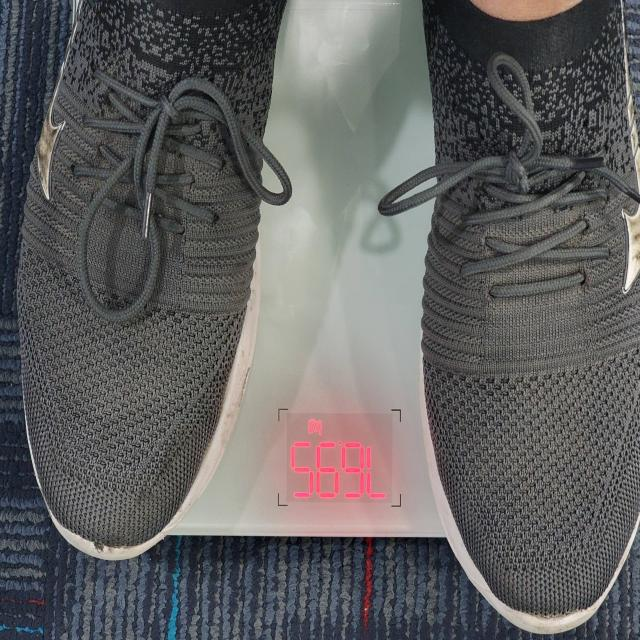ws: (254, 394, 419, 537)
